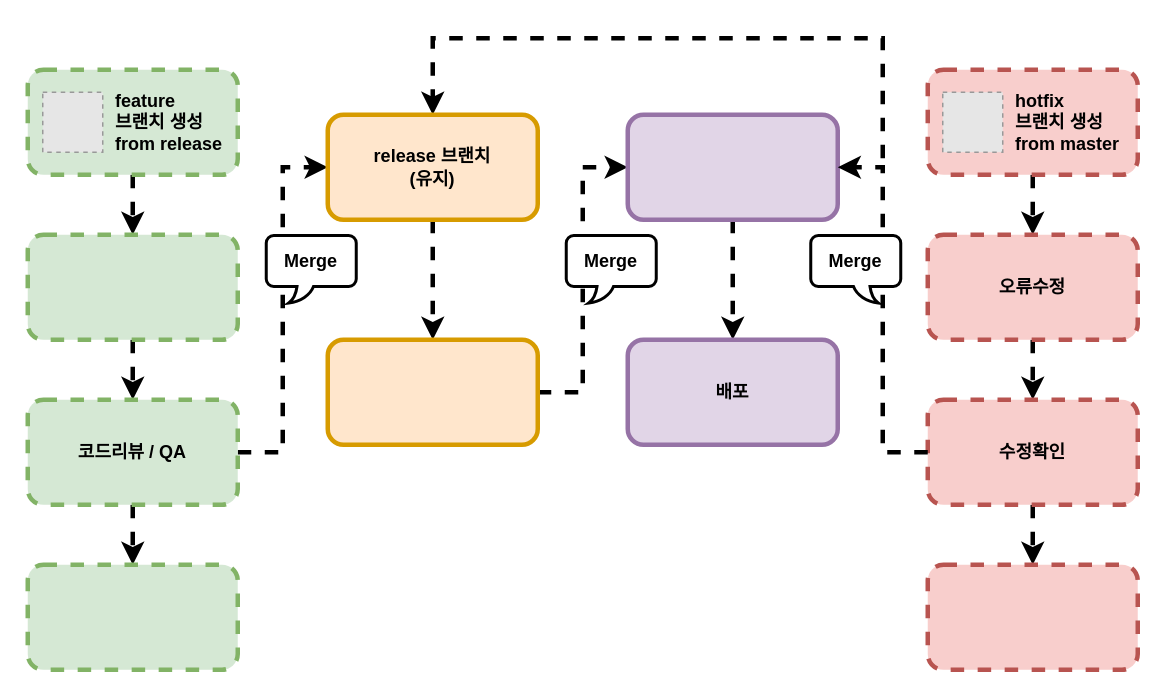
Image size: 1166x698. Some labels were removed from this diagram. Grey dashed boxes stand in for pictures. Each missing label, with the box of its shape:
master 브랜치 (유지): (625, 112, 839, 221)
기능개발: (25, 232, 239, 341)
배포 완료 및 release merge 후 브랜치 삭제: (925, 562, 1139, 671)
배포 완료 후 브랜치 삭제: (25, 562, 239, 671)
통합 테스트: (325, 337, 539, 446)
